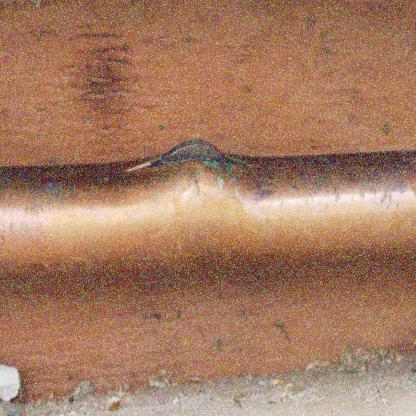burst: (145, 130, 248, 189)
